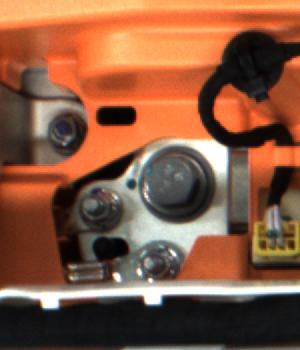nut_b: (138, 143, 217, 226)
